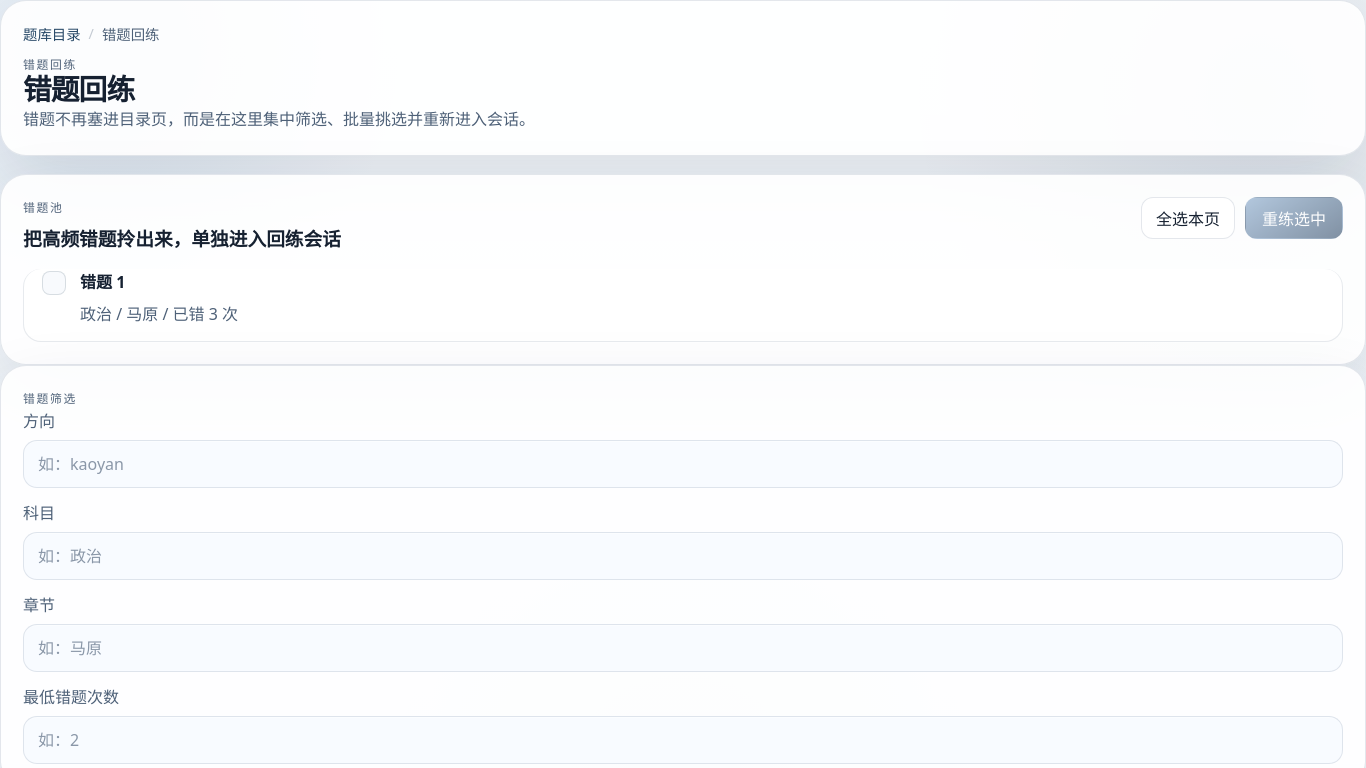
Scenario: practice pages › shows an explicit selected state for wrong-question items after clicking
Step 1. Click the button "错题 1 政治 / 马原 / 已错 3 次" → [103, 282], box [23,269,1343,342]
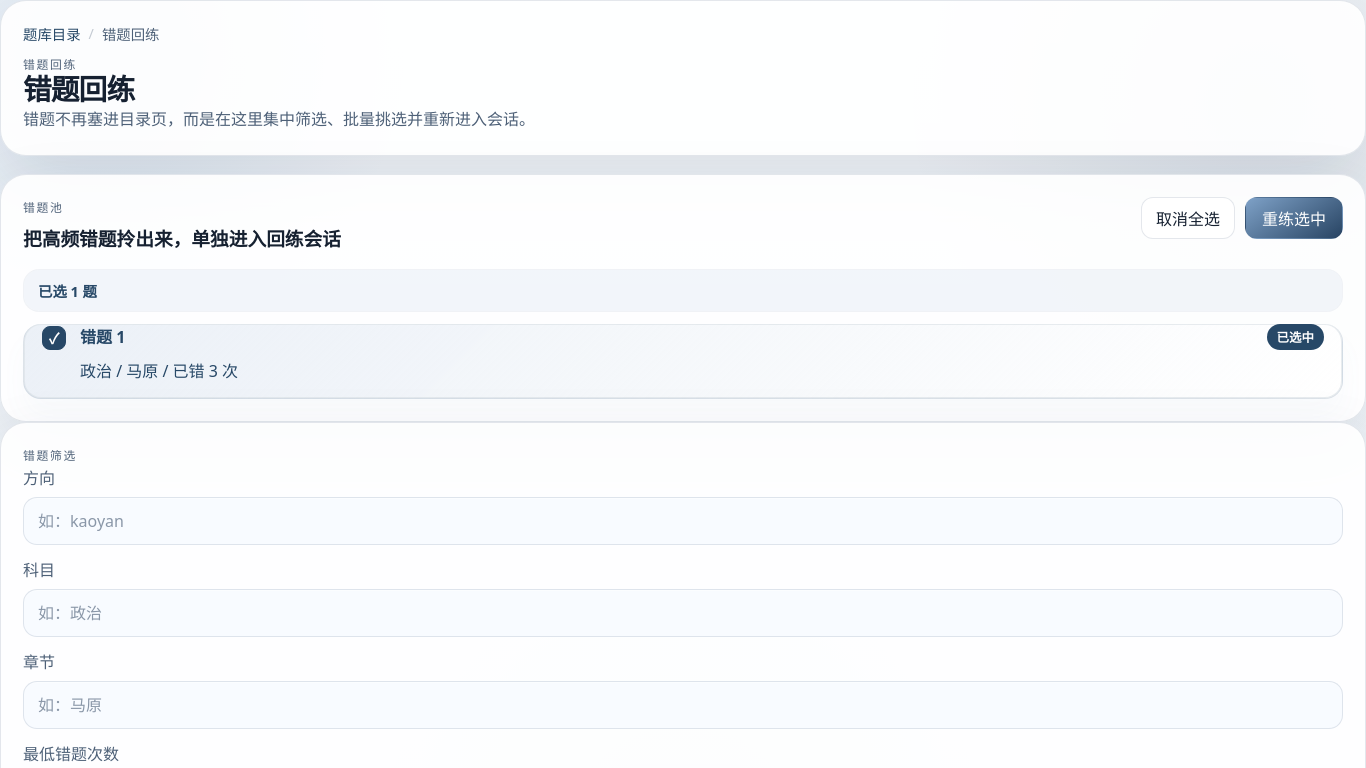
Expected: the text "已选中" is shown, [1267,324,1324,350]
Expected: the button "重练选中" is enabled, [1245,197,1343,239]
